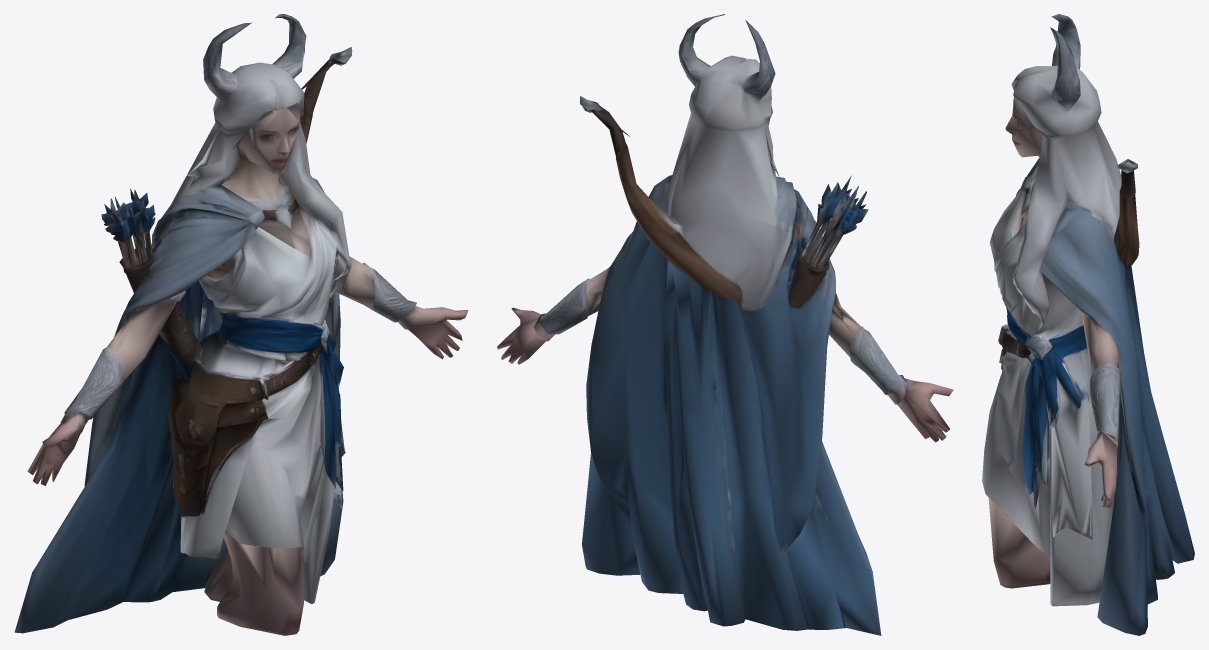
The model's file is elf_h2_lo.glb.
3 renders of one model, left to right at view 1: azimuth 30°, elevation 25°; view 2: azimuth 150°, elevation 25°; view 3: azimuth 270°, elevation 25°, orthographic. The views are drawn at different scales.
Visible parts, largest first — view 1: node_0; view 2: node_0; view 3: node_0.
Part boxes in pixels (box(x1,y1,x2,y2)): node_0: box(14, 14, 468, 635); node_0: box(497, 14, 953, 635); node_0: box(982, 14, 1194, 635).
Bounding box in the file's own units: 0.7934 × 0.9745 × 0.3353.
1 material, 1 textured.
